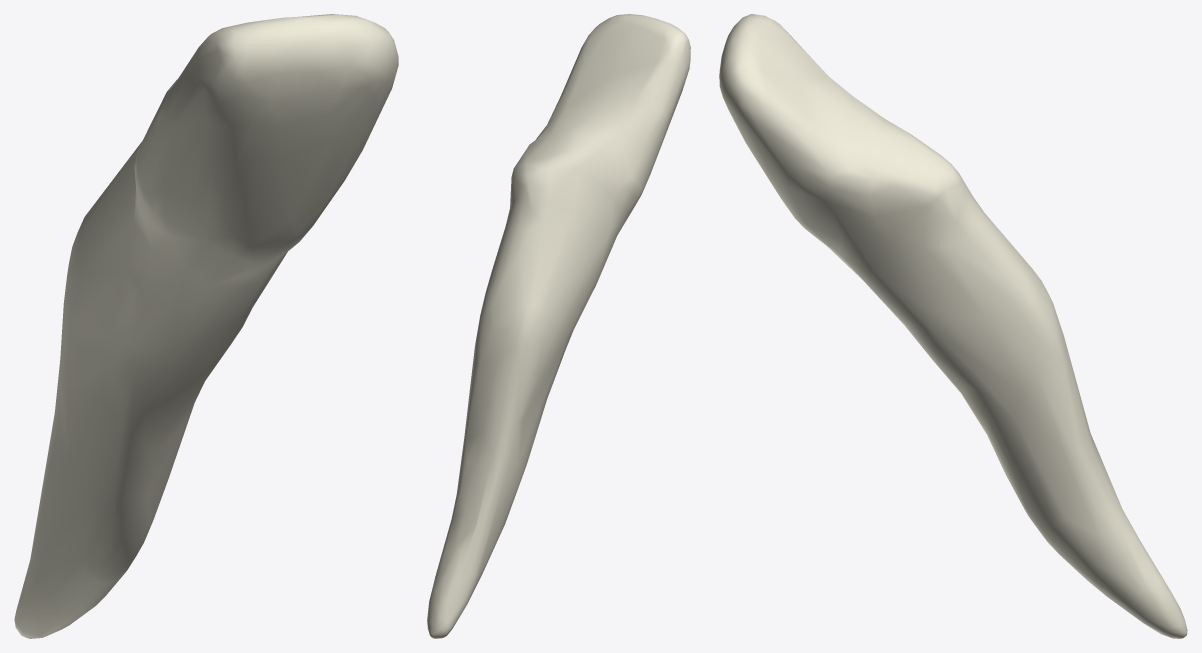
The model's file is Right lower central incisor tooth.fbx.
3 views of the same model, side by side, from view 1: azimuth 30°, elevation 25°; view 2: azimuth 150°, elevation 25°; view 3: azimuth 270°, elevation 25° (orthographic). The views are drawn at different scales.
Visible parts, largest first — view 1: Right lower central incisor tooth; view 2: Right lower central incisor tooth; view 3: Right lower central incisor tooth.
Boxes of the visible parts, left/top/right/bottom form: Right lower central incisor tooth: left=14, top=14, right=398, bottom=638; Right lower central incisor tooth: left=427, top=14, right=690, bottom=638; Right lower central incisor tooth: left=719, top=14, right=1187, bottom=638.
Bounding box in the file's own units: 0.7824 × 3.39 × 2.44.
